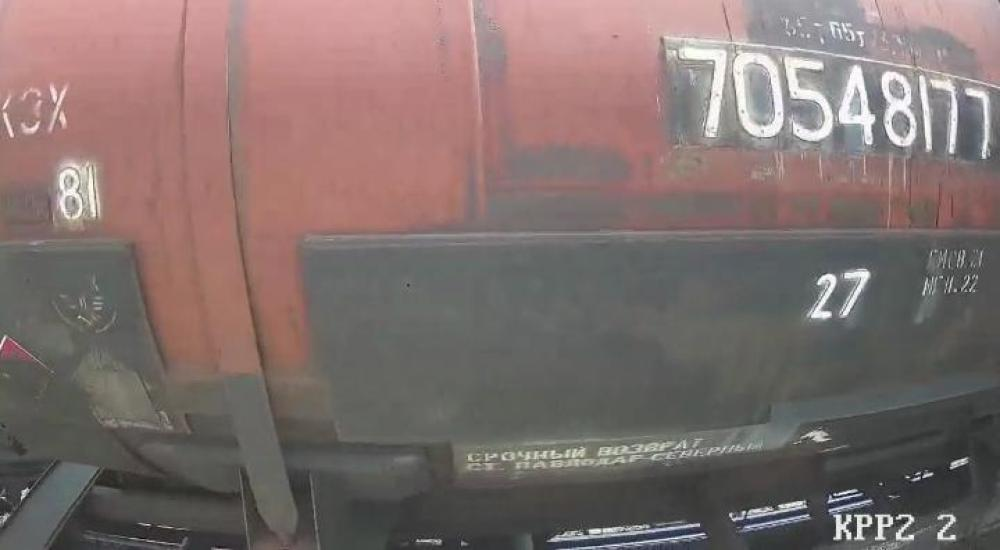Wagon-number: (674, 45, 995, 164)
